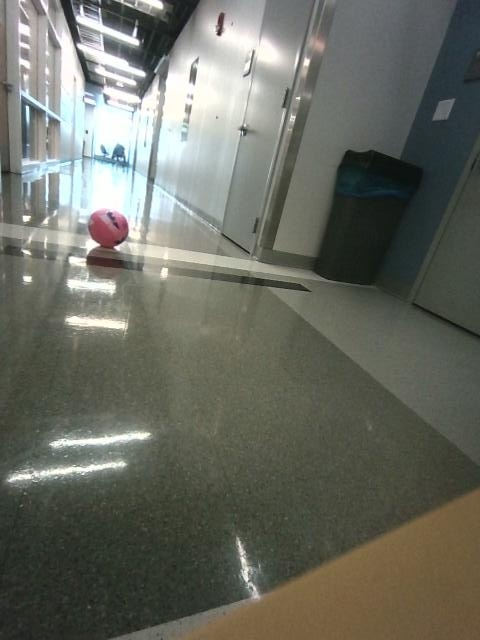ball: (88, 208, 128, 247)
